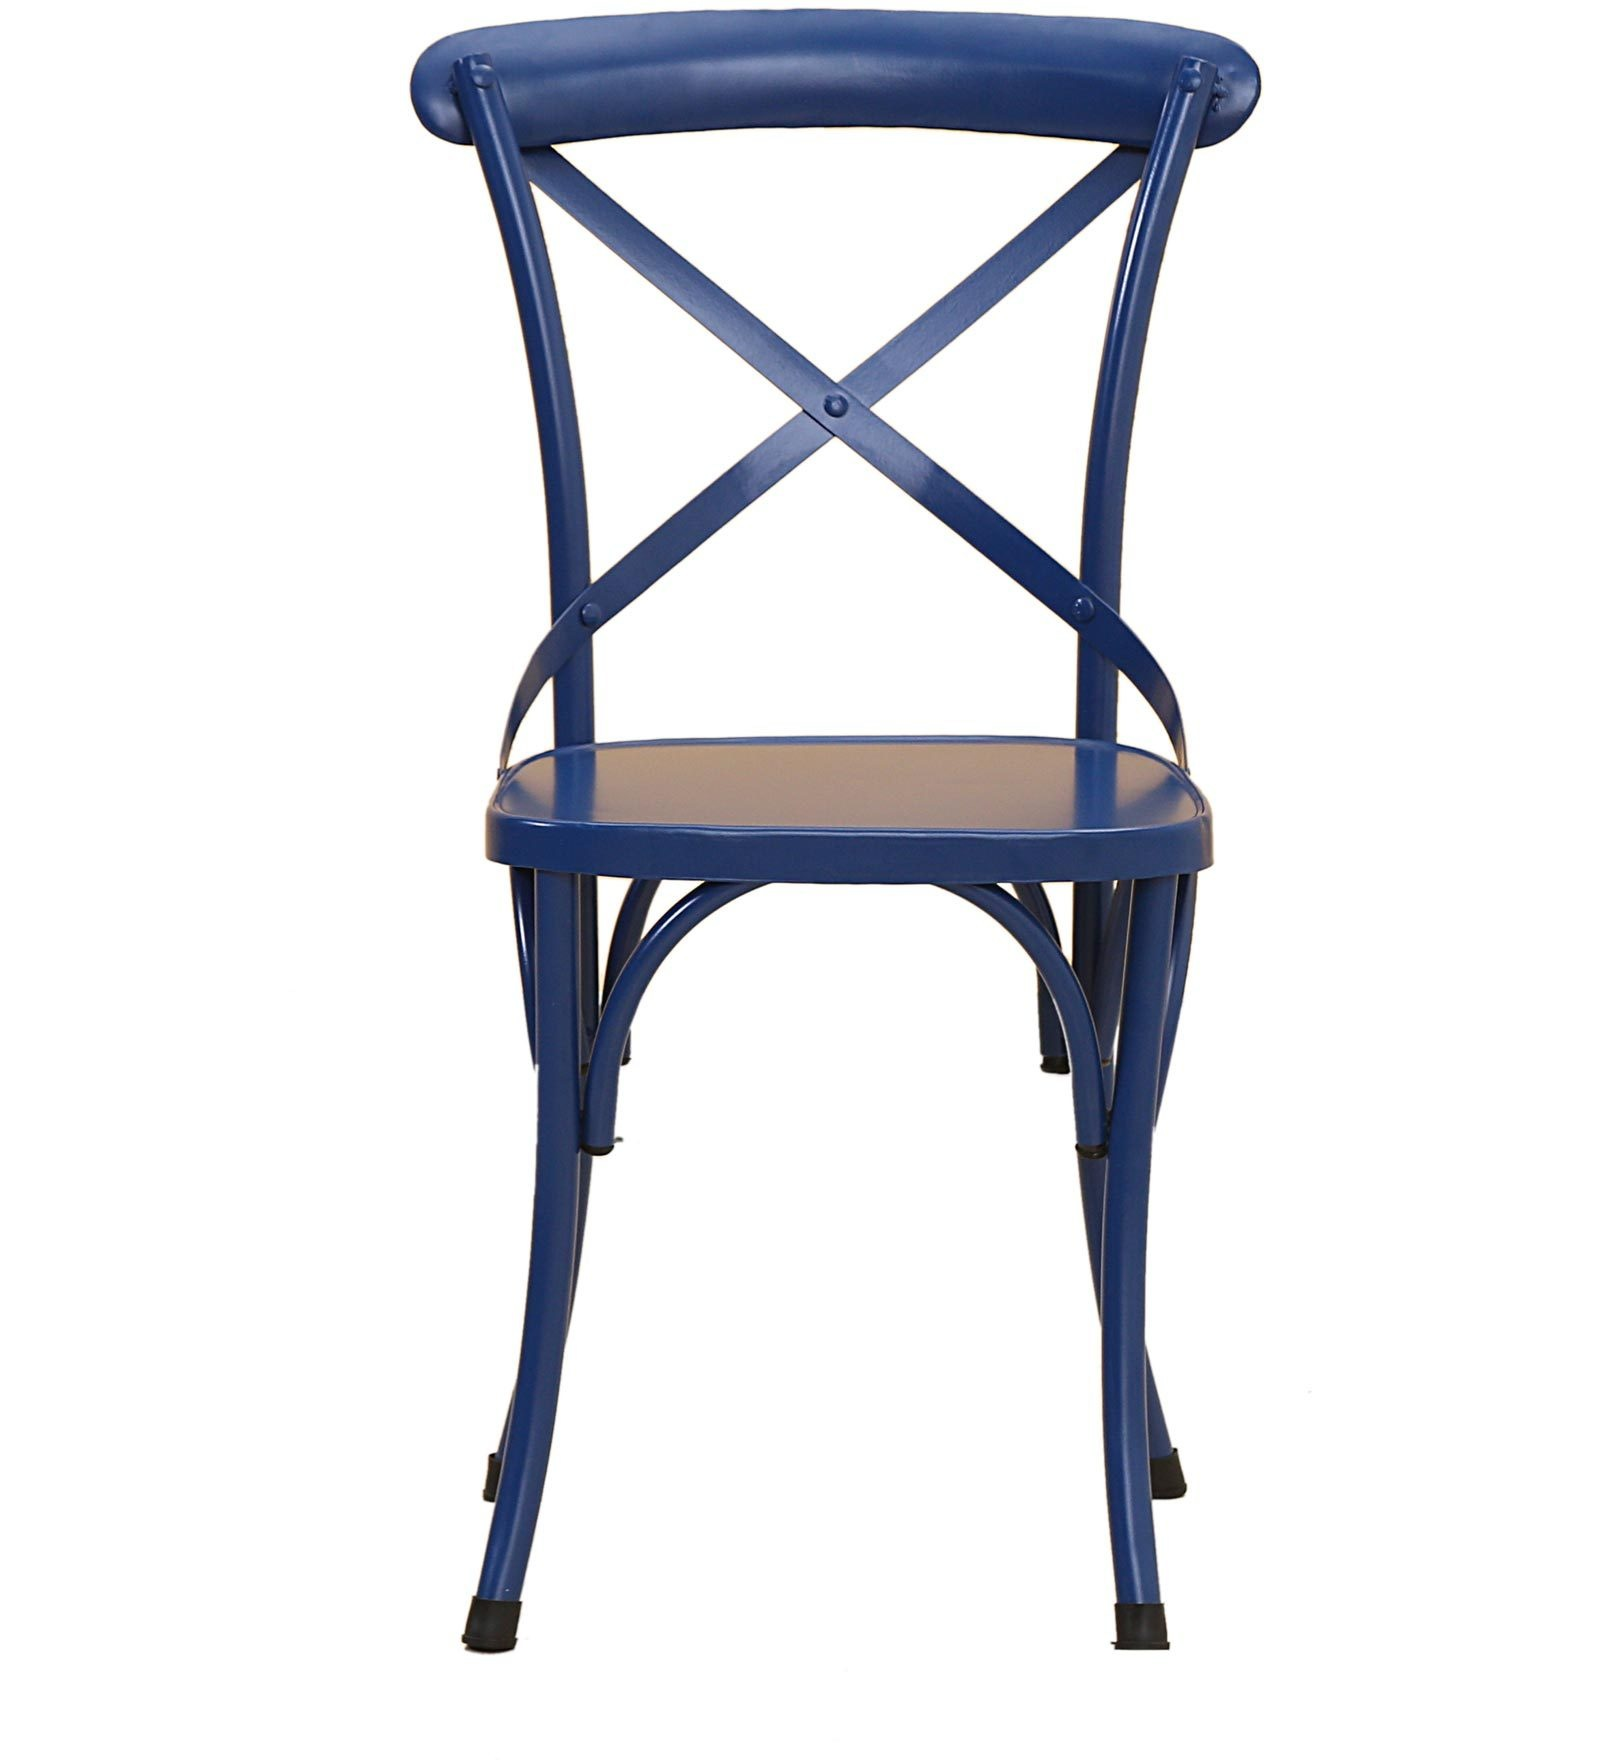Fabian Metal Chair in Blue Color by Bohemiana: (389, 2, 1266, 1682)
